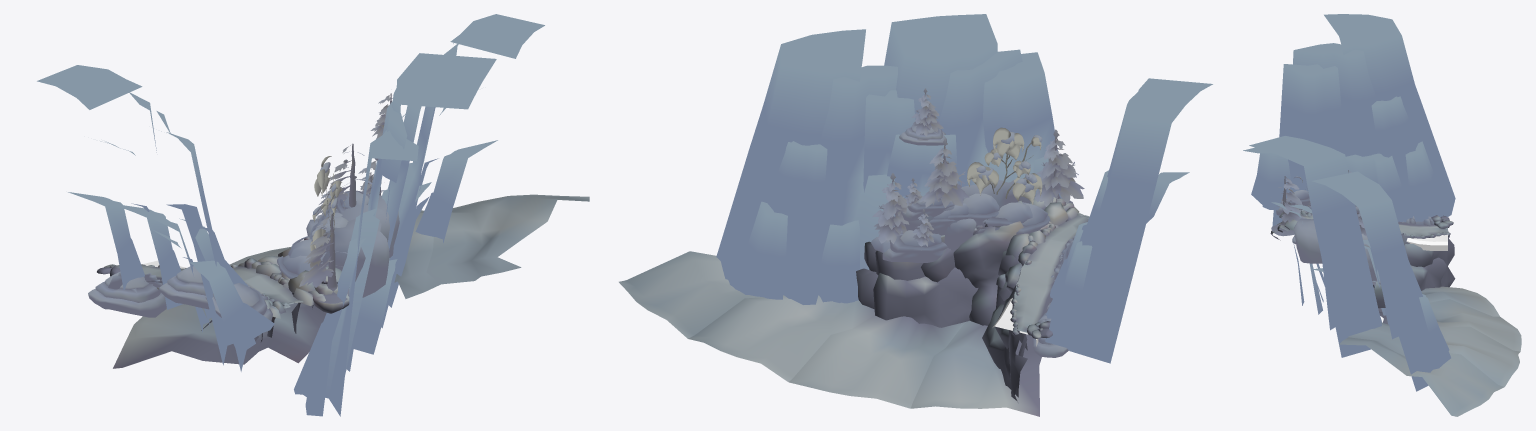
The model's file is Arctic_Narrows_Right_End_A.glb.
3 views of the same model, side by side, from view 1: azimuth 30°, elevation 25°; view 2: azimuth 150°, elevation 25°; view 3: azimuth 270°, elevation 25° (orthographic). The views are drawn at different scales.
Parts seen in each view (by area): view 1: Arctic_Narrows_Right_End_A; view 2: Arctic_Narrows_Right_End_A; view 3: Arctic_Narrows_Right_End_A, inv_fill.
Part boxes in pixels (x1,y1,x2,y2): Arctic_Narrows_Right_End_A: (37, 14, 589, 416); Arctic_Narrows_Right_End_A: (619, 14, 1212, 416); Arctic_Narrows_Right_End_A: (1243, 14, 1521, 416); inv_fill: (1406, 234, 1447, 250).
Size of what is drawn, in the model's own units: 42.75 by 24.31 by 25.58.
